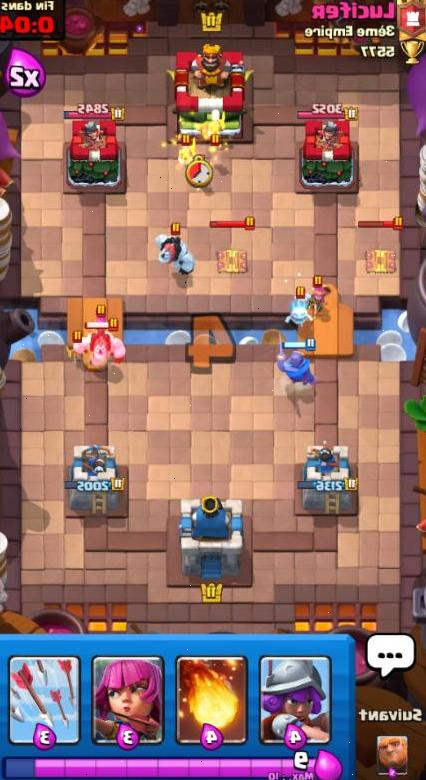enemy_archers: (305, 277, 333, 315)
enemy_ice_golem: (147, 220, 200, 287)
enemy_ice_spirit: (283, 289, 315, 329)
enemy_tesla: (205, 216, 260, 278), (352, 216, 405, 278)
player_knight: (270, 338, 321, 389)
